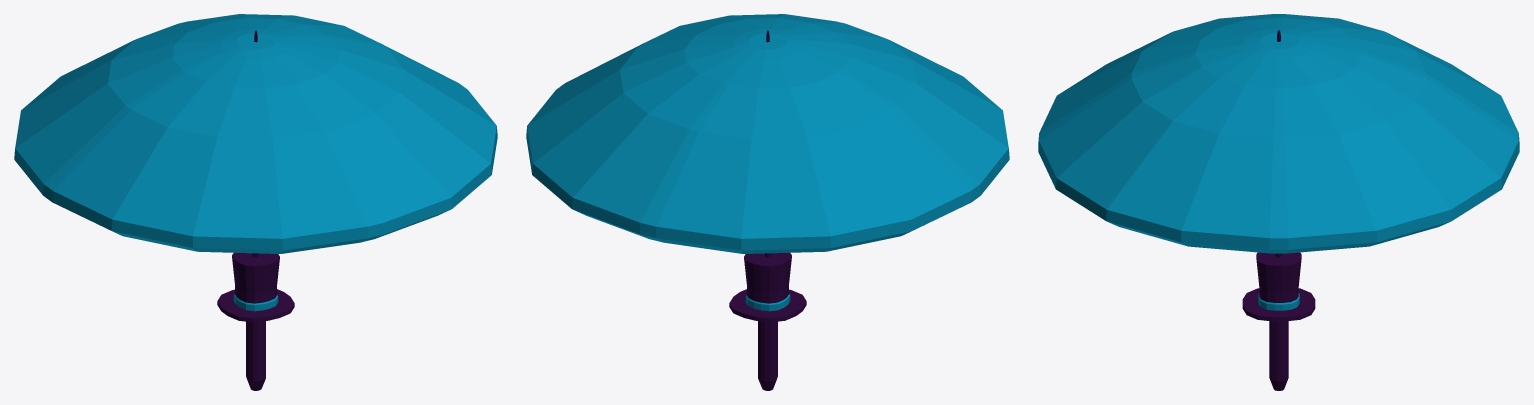
File: Sword_open.fbx
3 renders of one model, left to right at view 1: azimuth 30°, elevation 25°; view 2: azimuth 150°, elevation 25°; view 3: azimuth 270°, elevation 25°, orthographic.
Visible parts, largest first — view 1: Griff.002; view 2: Griff.002; view 3: Griff.002.
Boxes of the visible parts, x1,y1,x2,y2 form: Griff.002: (14, 14, 497, 390); Griff.002: (526, 14, 1009, 390); Griff.002: (1038, 14, 1519, 390).
Size of the model in its own units: 1050 by 862 by 1050.
1 material, 1 textured.
